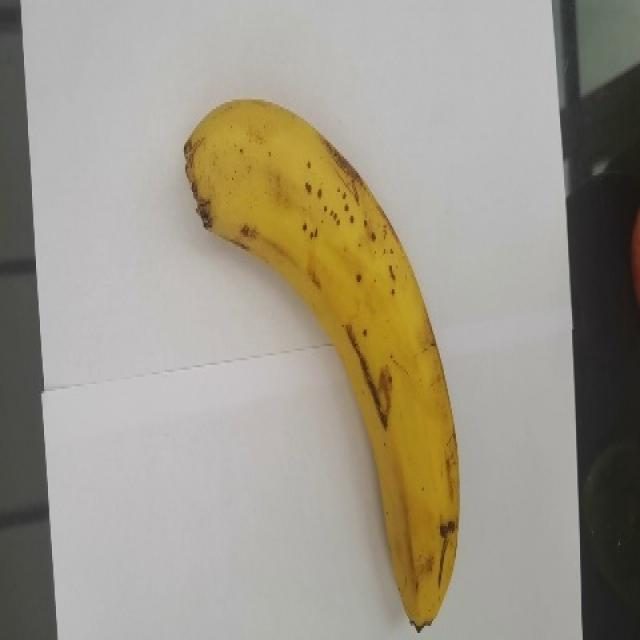Banana: (182, 97, 461, 632)
